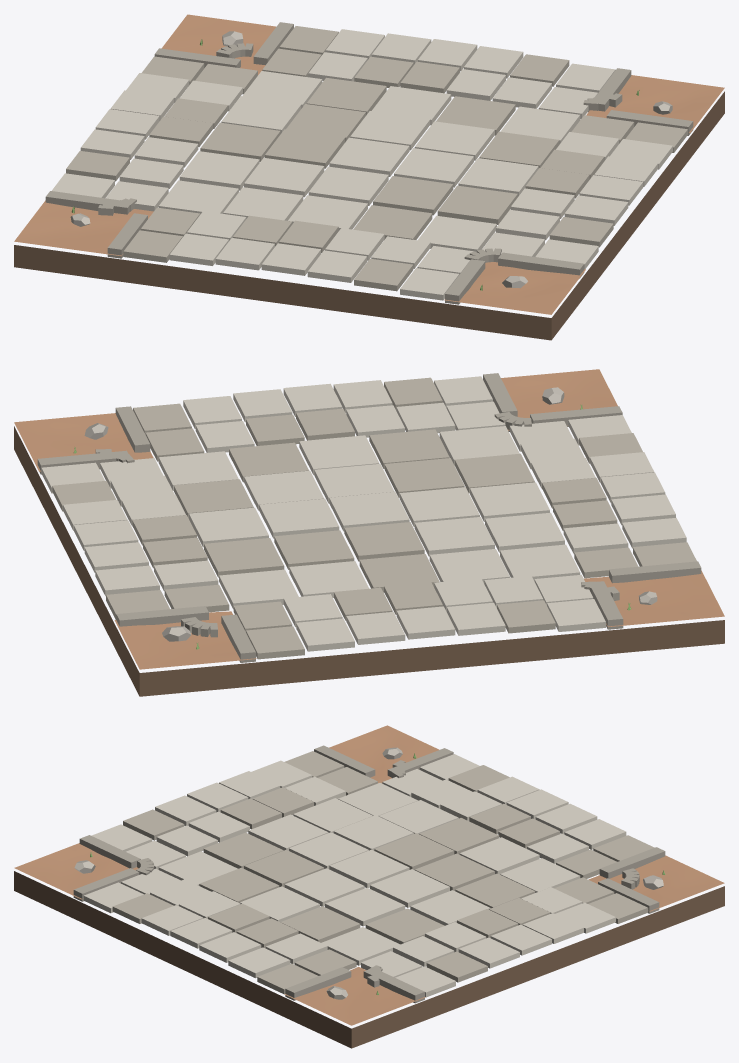
Rendered from south_indian_village_road_intersection_8x8.glb.
The picture shows the model from 3 angles, top to bottom: view 1: azimuth 30°, elevation 25°; view 2: azimuth 150°, elevation 25°; view 3: azimuth 270°, elevation 25°; orthographic projection. The views are drawn at different scales.
Visible parts, largest first — view 1: Granite_Paved_Crossroads, Intersection_Foundation_Skirt, Laterite_Corner_Shoulders, Granite_Curved_Kerbs; view 2: Granite_Paved_Crossroads, Intersection_Foundation_Skirt, Laterite_Corner_Shoulders, Granite_Curved_Kerbs; view 3: Granite_Paved_Crossroads, Intersection_Foundation_Skirt, Laterite_Corner_Shoulders, Granite_Curved_Kerbs.
Part boxes in pixels (x1,y1,x2,y2): Granite_Paved_Crossroads: (52,26,687,300); Intersection_Foundation_Skirt: (14,91,724,340); Laterite_Corner_Shoulders: (14,14,724,314); Granite_Curved_Kerbs: (45,22,693,304); Granite_Paved_Crossroads: (41,376,696,659); Intersection_Foundation_Skirt: (14,426,724,696); Laterite_Corner_Shoulders: (14,369,724,669); Granite_Curved_Kerbs: (37,373,701,662); Granite_Paved_Crossroads: (83,751,654,997); Intersection_Foundation_Skirt: (14,871,724,1048); Laterite_Corner_Shoulders: (14,725,724,1025); Granite_Curved_Kerbs: (73,745,665,1003).
Size of the model in its own units: 11.3 by 0.5582 by 11.3.
